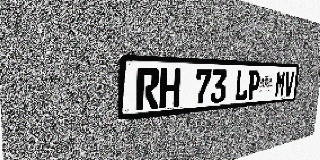3: (210, 69, 227, 104)
7: (193, 69, 212, 105)
H: (159, 68, 181, 109)
L: (234, 70, 249, 101)
M: (274, 71, 286, 97)
P: (247, 70, 261, 100)
R: (136, 68, 160, 111)
V: (284, 71, 295, 96)
